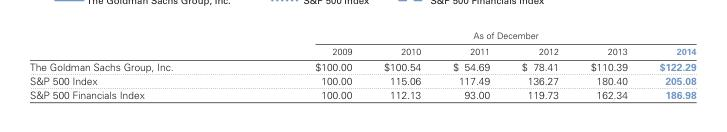table: (28, 29, 695, 100)
table column: (28, 29, 243, 100), (243, 29, 367, 100), (367, 29, 436, 100), (436, 29, 505, 100), (573, 29, 642, 100), (505, 29, 573, 100), (642, 29, 695, 100)
table column header: (28, 29, 695, 58)
table row: (28, 42, 695, 58), (28, 58, 695, 73), (28, 73, 695, 87), (28, 29, 695, 42), (28, 87, 695, 100)
table spanning cell: (243, 29, 695, 42)
